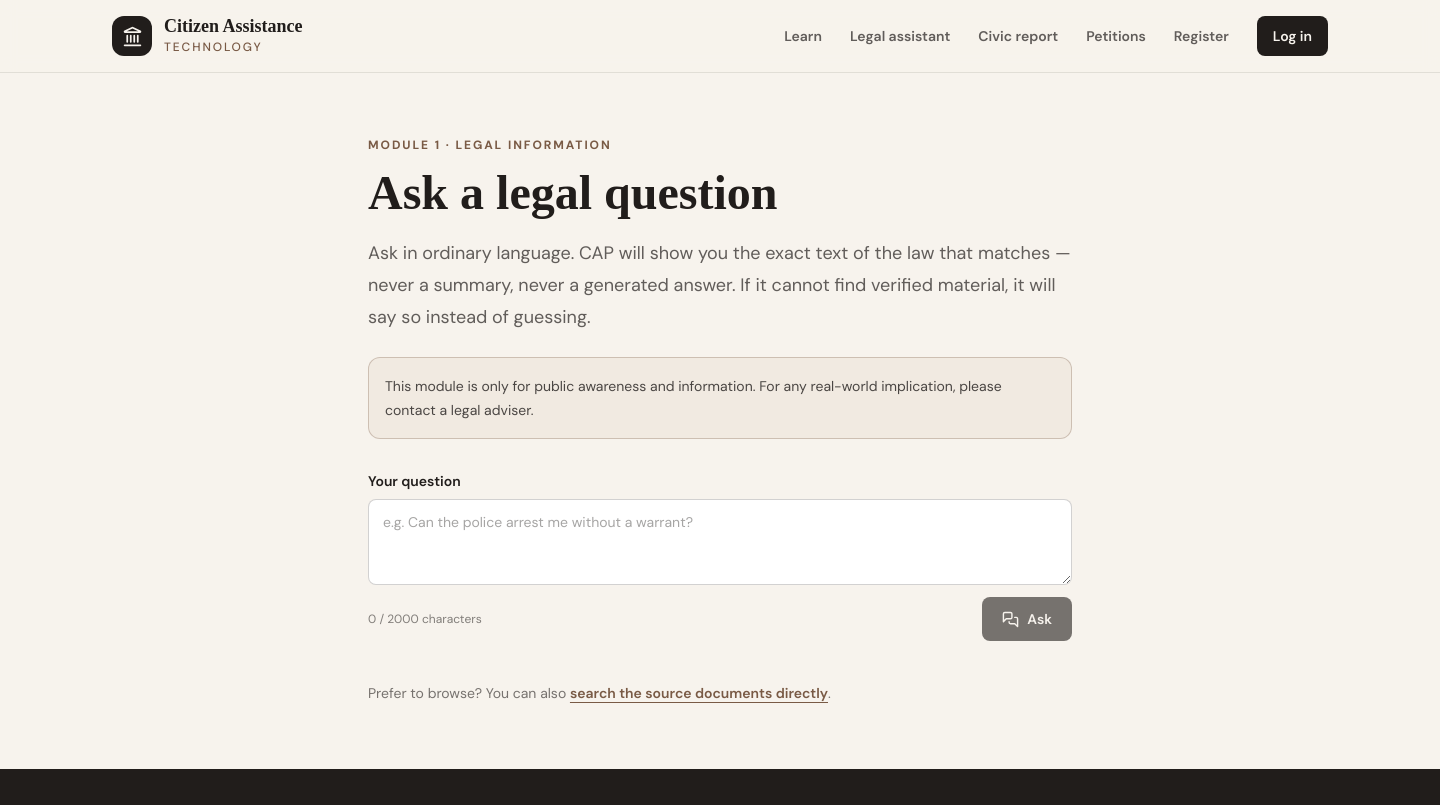
Scenario: LegalAssistantPage › shows no related-content panel when no Learn material covers the cited provision
The width and height of the screenshot is (1440, 805).
Type "Can a woman be arrested at night?" into the text box labelled "Your question" at (720, 542), box [368,499,1072,585]
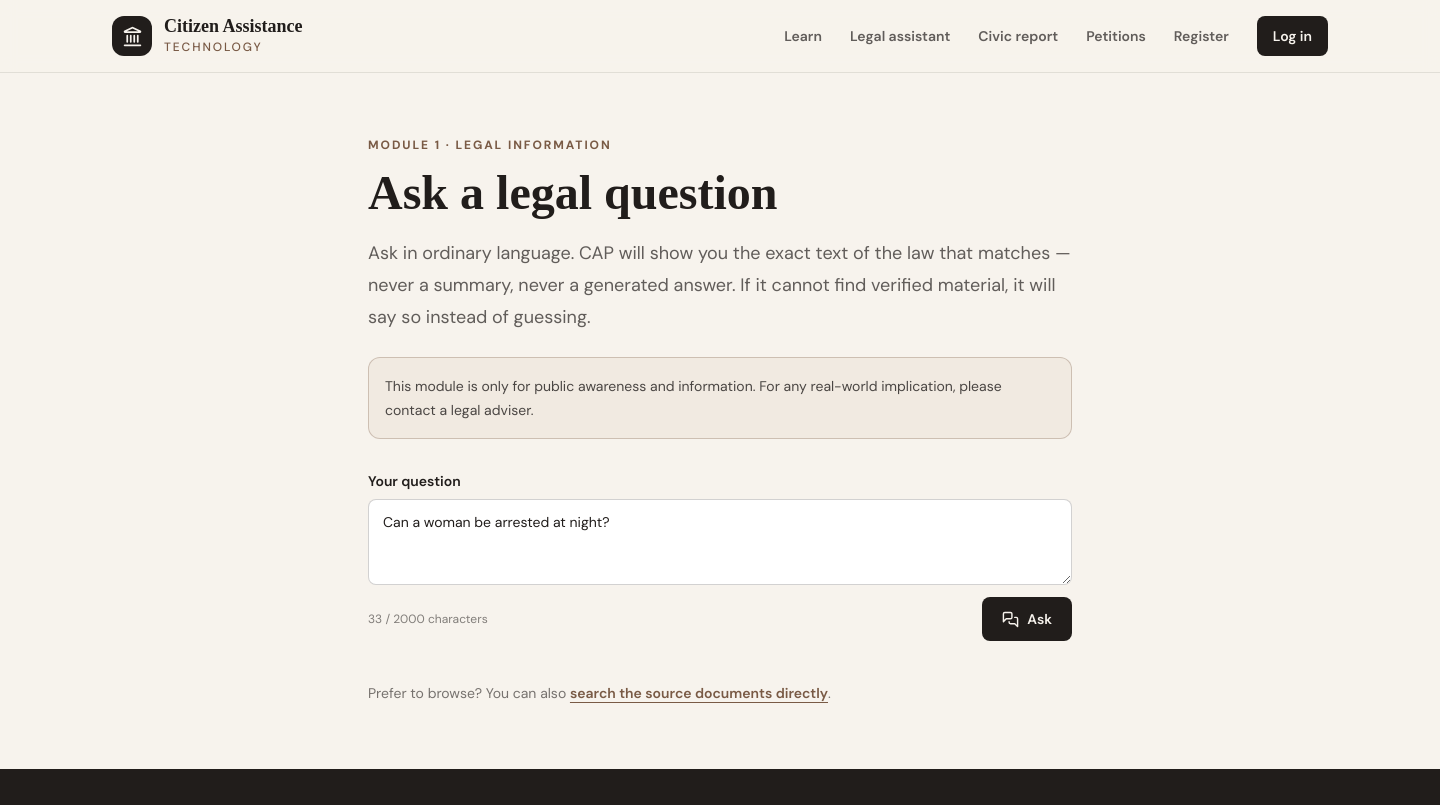
Click the button "Ask" at (1027, 619), box [982,597,1072,641]
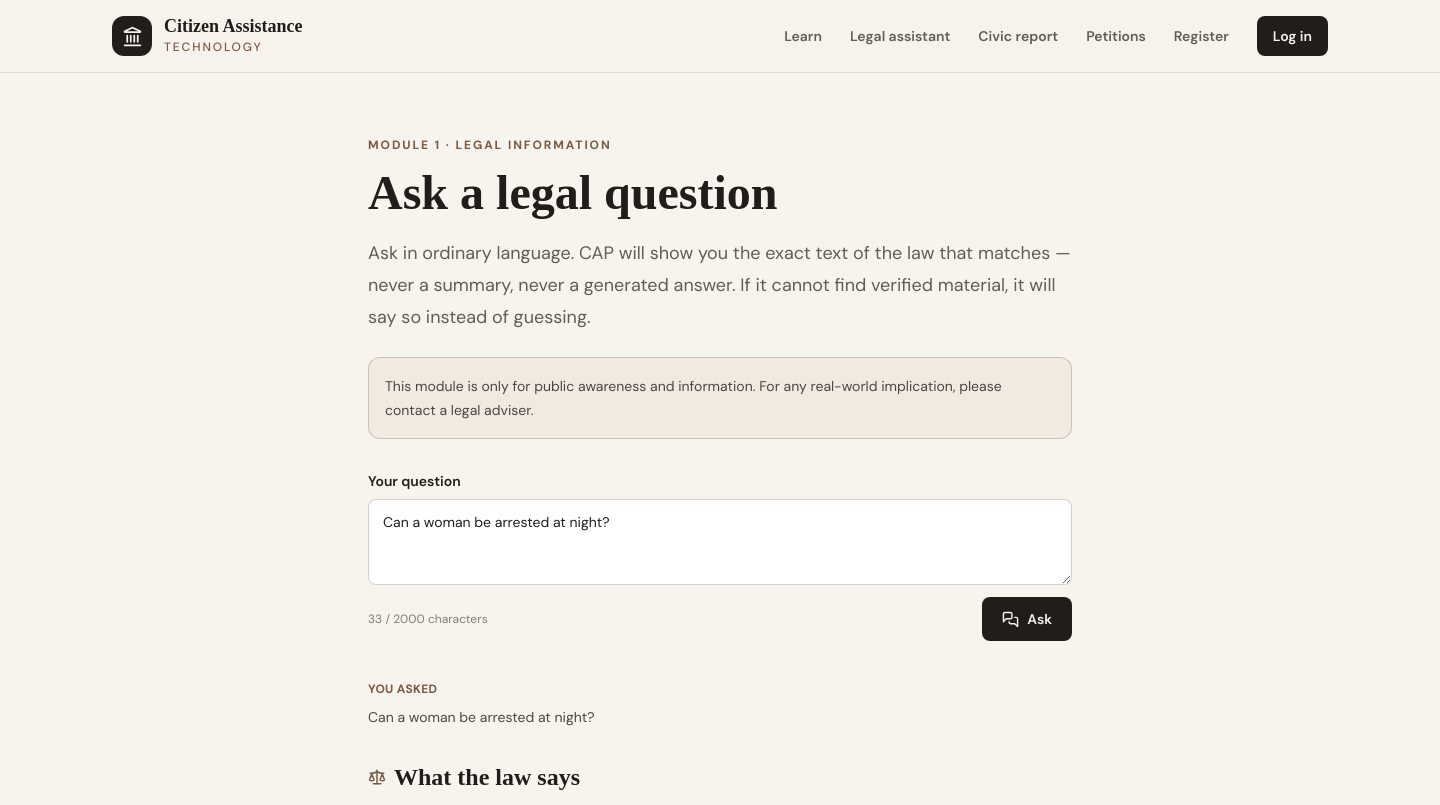
Now the heading "What the law says" is shown, box [394,761,580,793]
